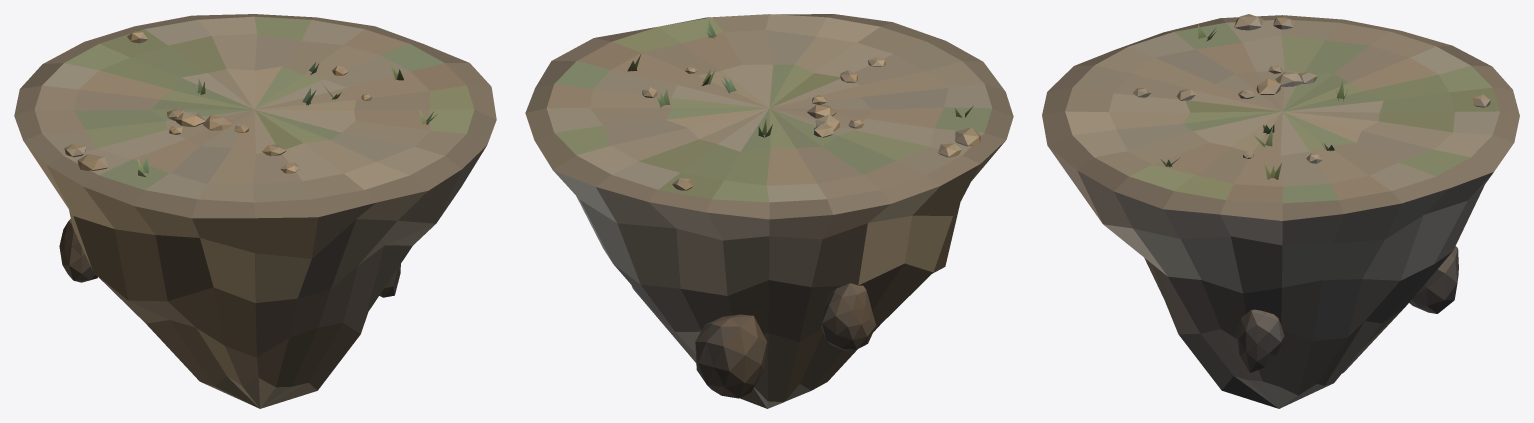
The model's file is islet_small_b.glb.
3 views of the same model, side by side, from view 1: azimuth 30°, elevation 25°; view 2: azimuth 150°, elevation 25°; view 3: azimuth 270°, elevation 25° (orthographic). The views are drawn at different scales.
Visible parts, largest first — view 1: islet_small_b; view 2: islet_small_b; view 3: islet_small_b.
Part boxes in pixels (left/top/right/bottom): islet_small_b: left=14, top=14, right=496, bottom=408; islet_small_b: left=525, top=14, right=1013, bottom=408; islet_small_b: left=1042, top=14, right=1519, bottom=408.
Size of the model in its own units: 13.34 by 9.47 by 13.19.
